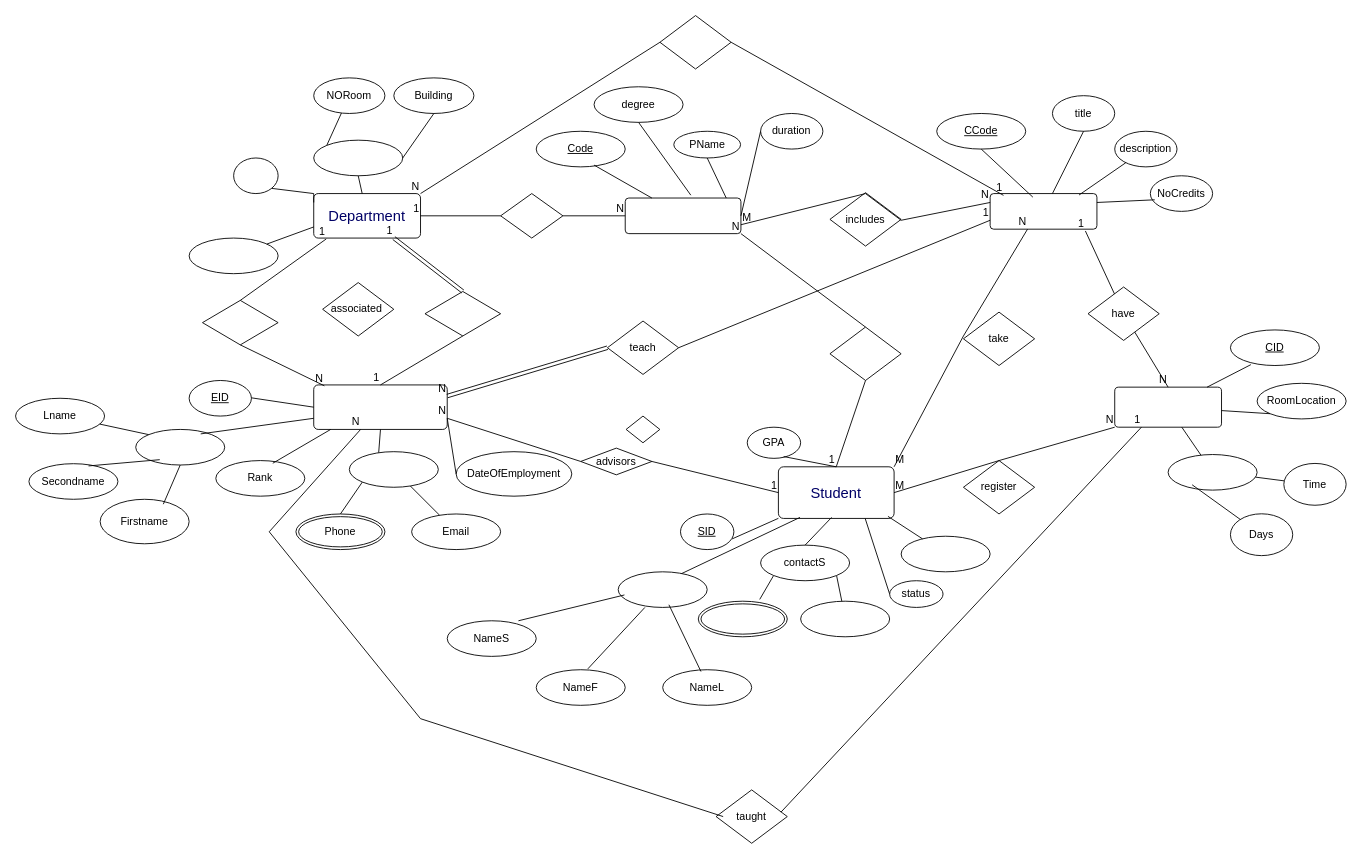
This 1362x859 diagram has some shape labels left out. Here are the shapes that lost their labels. From the top down, the box of each, then its label:
(659, 15, 731, 69): belong
(233, 157, 278, 194): DID
(313, 139, 403, 176): Location
(500, 193, 563, 238): offers
(624, 197, 741, 234): Program
(989, 193, 1097, 229): Courses
(188, 237, 278, 274): DName
(202, 299, 278, 345): Has
(424, 291, 501, 336): manage
(829, 326, 901, 380): enroll
(313, 384, 447, 429): FacultyMembers
(1114, 386, 1222, 427): Classes
(135, 429, 225, 465): FName
(625, 415, 660, 443): guide
(348, 451, 438, 487): contactM
(1167, 454, 1257, 490): schedule
(900, 535, 990, 572): DateOfEnrollment
(617, 571, 707, 607): SudentName
(697, 600, 787, 637): SPhone
(800, 600, 890, 637): SEmail
